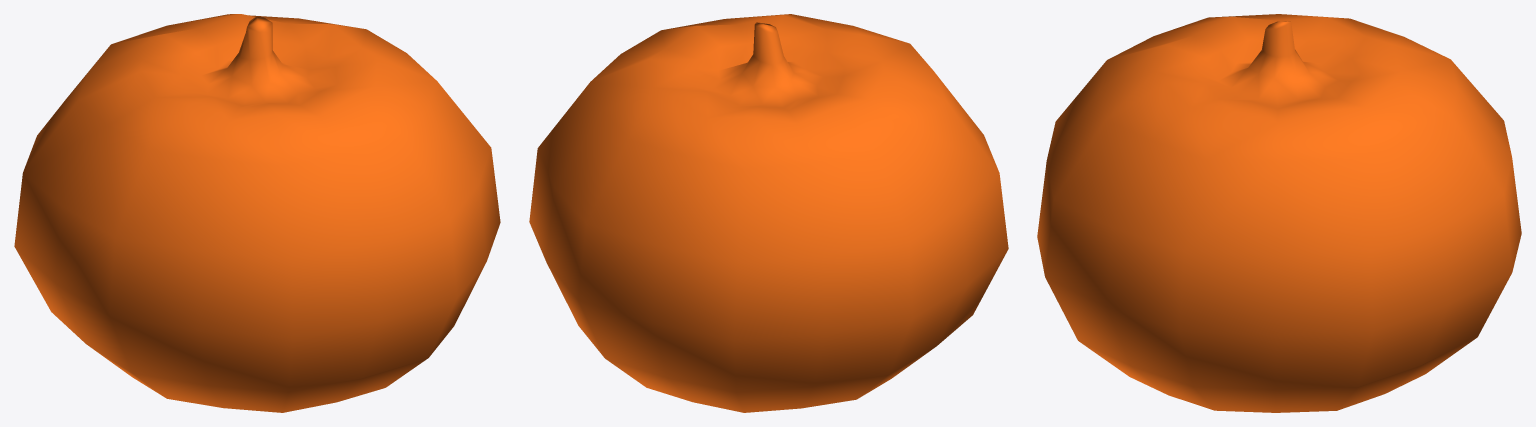
File: Pumpkin Wide Organic LP (No Carving).obj
The picture shows the model from 3 angles, left to right: view 1: azimuth 30°, elevation 25°; view 2: azimuth 150°, elevation 25°; view 3: azimuth 270°, elevation 25°; orthographic projection.
Parts seen in each view (by area): view 1: Main_Pumpkin_Wide_Organic_LP; view 2: Main_Pumpkin_Wide_Organic_LP; view 3: Main_Pumpkin_Wide_Organic_LP.
Boxes of the visible parts, left/top/right/bottom form: Main_Pumpkin_Wide_Organic_LP: left=14, top=14, right=500, bottom=412; Main_Pumpkin_Wide_Organic_LP: left=529, top=14, right=1008, bottom=412; Main_Pumpkin_Wide_Organic_LP: left=1037, top=14, right=1521, bottom=412.
Bounding box in the file's own units: 1.72 × 1.35 × 1.76.
1 material, 1 textured.
